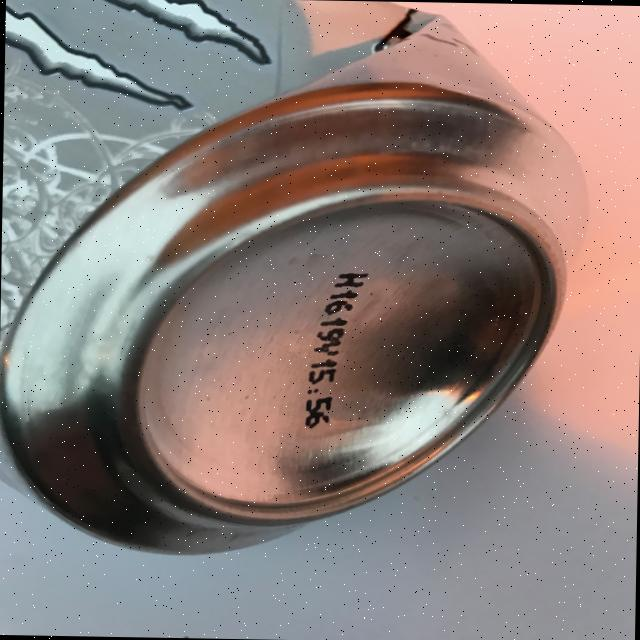metal: (0, 0, 593, 563)
